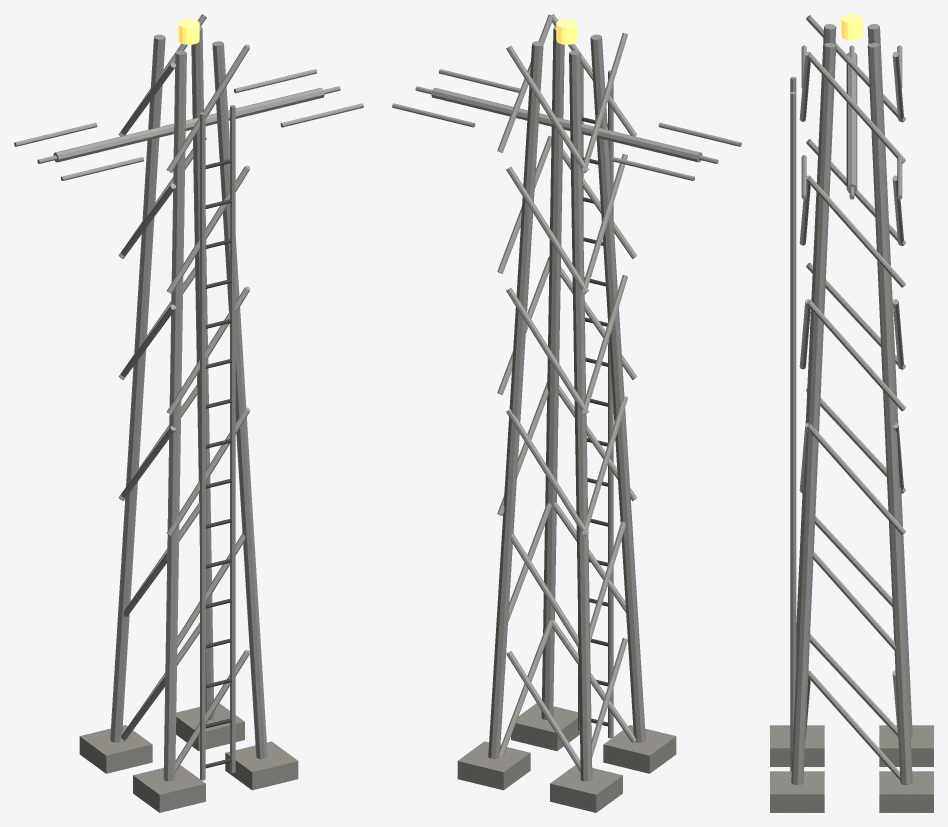
File: signal-house-braced-relay-antenna-mast__191.glb
3 views of the same model, side by side, from view 1: azimuth 30°, elevation 25°; view 2: azimuth 150°, elevation 25°; view 3: azimuth 270°, elevation 25° (orthographic). The views are drawn at different scales.
Parts seen in each view (by area): view 1: metal, stone, dark; view 2: metal, stone, dark; view 3: metal, stone, light.
Part boxes in pixels (<box>): metal: <box>14,14,363,781</box>; stone: <box>79,703,298,812</box>; dark: <box>205,159,231,768</box>; metal: <box>392,14,741,781</box>; stone: <box>457,703,676,812</box>; dark: <box>581,117,607,726</box>; metal: <box>790,15,912,785</box>; stone: <box>770,725,933,812</box>; light: <box>841,14,862,40</box>.
Size of the model in its own units: 2.6 by 6.14 by 1.2.
4 materials, 1 textured.
